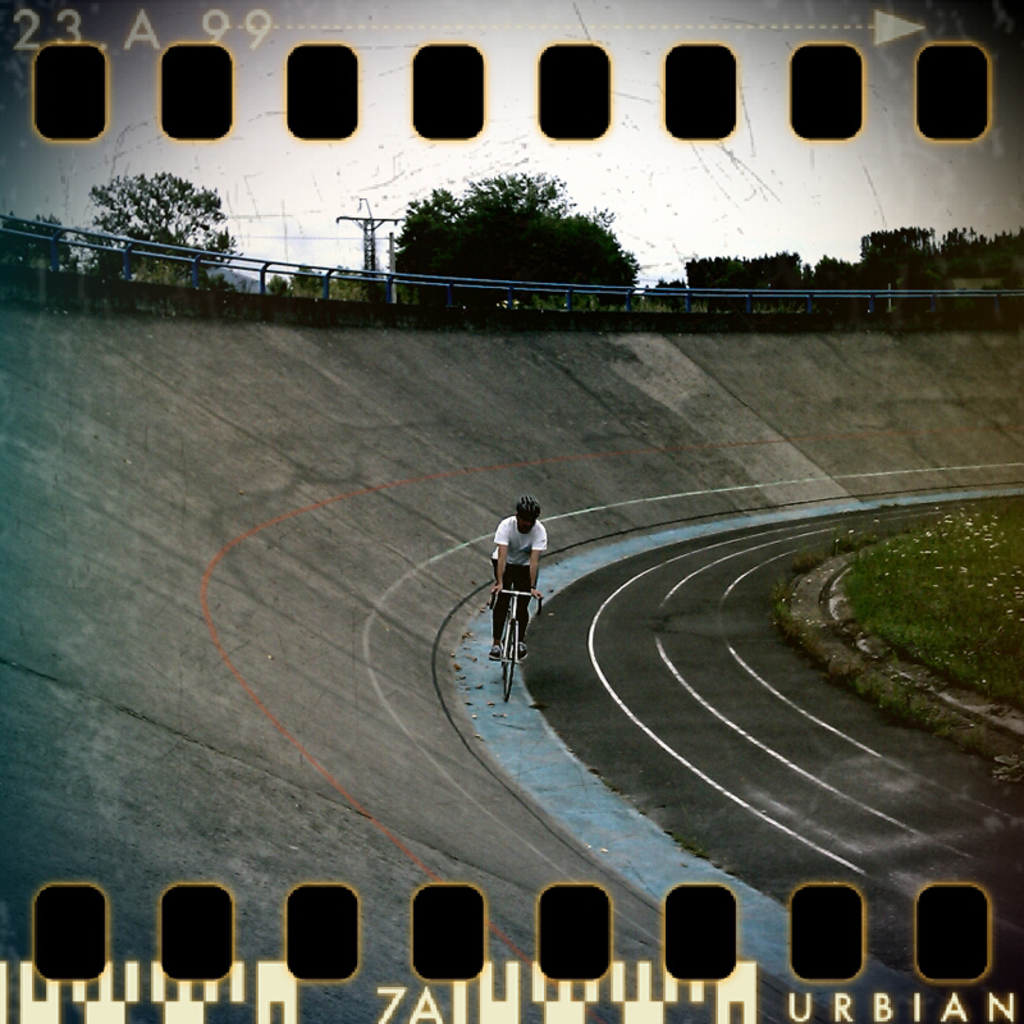Bike_toward: (483, 577, 541, 703)
